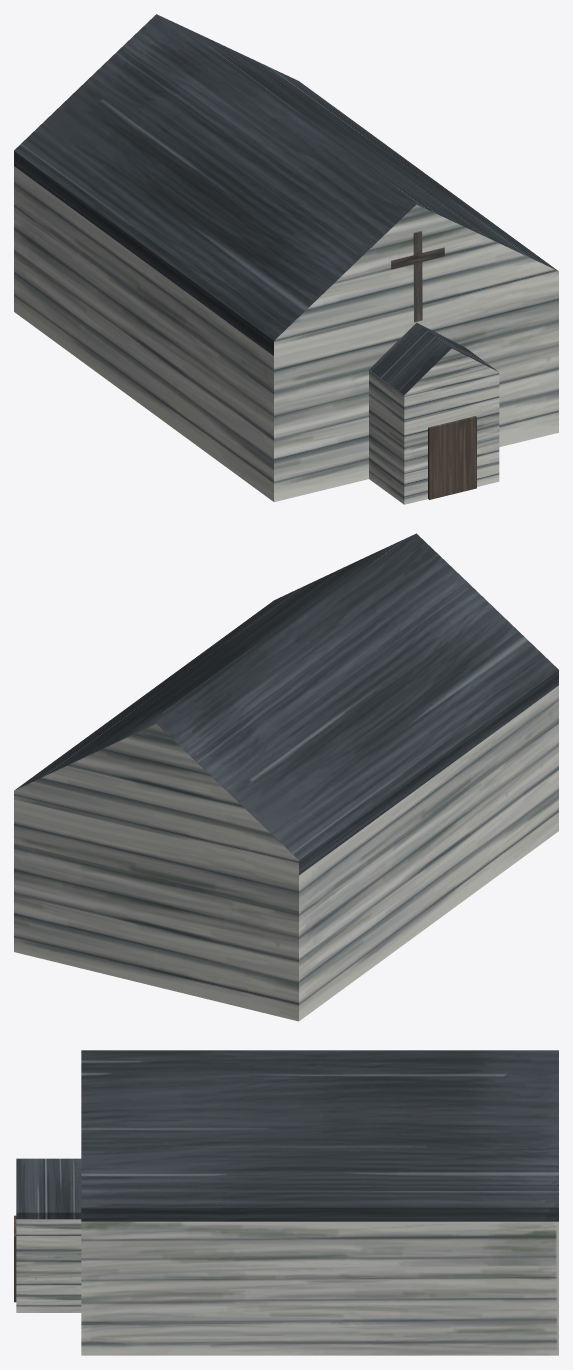
The model's file is eglise.FBX.
The picture shows the model from 3 angles, top to bottom: view 1: azimuth 30°, elevation 25°; view 2: azimuth 150°, elevation 25°; view 3: azimuth 270°, elevation 25°; orthographic projection. The views are drawn at different scales.
Visible parts, largest first — view 1: église; view 2: église; view 3: église.
Part boxes in pixels (box(x1,y1,x2,y2)): église: box(14, 14, 558, 504); église: box(14, 533, 558, 1021); église: box(14, 1050, 558, 1355).
Size of the model in its own units: 829 by 731 by 1494.
